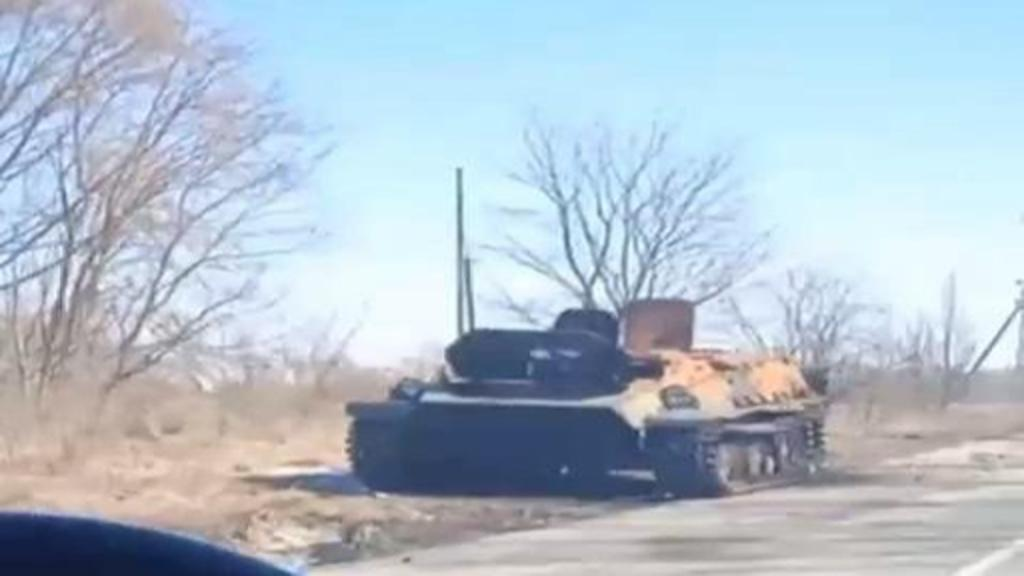APC-IFV: (338, 292, 838, 502)
